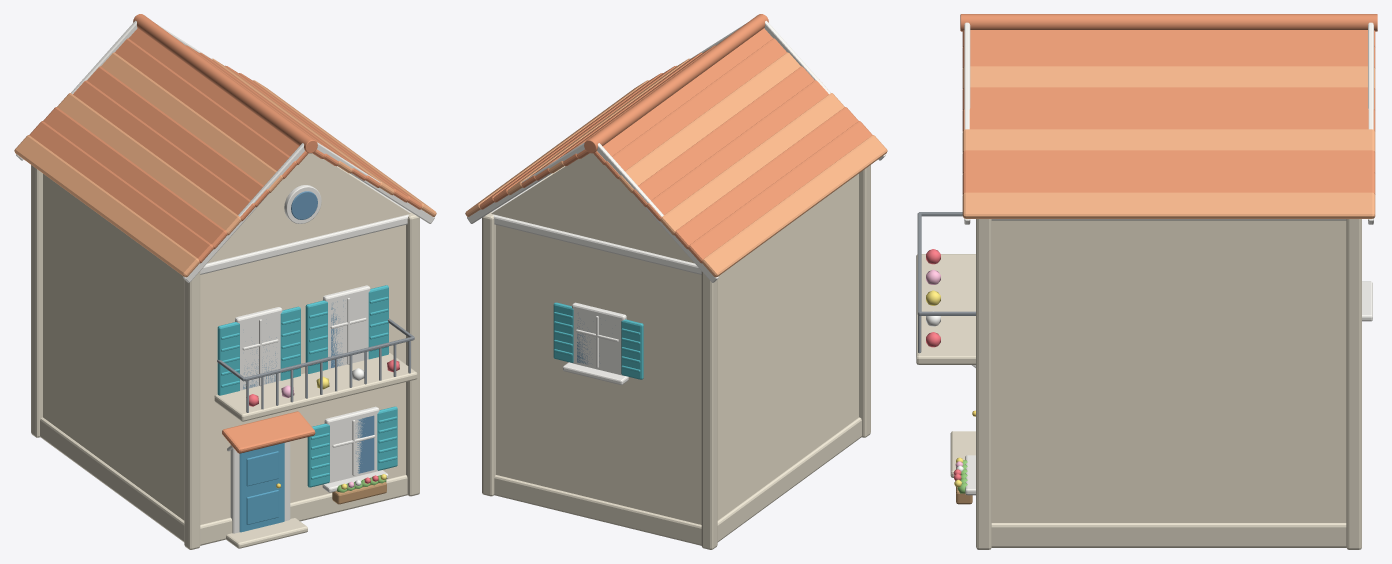
File: house_b.fbx
3 views of the same model, side by side, from view 1: azimuth 30°, elevation 25°; view 2: azimuth 150°, elevation 25°; view 3: azimuth 270°, elevation 25° (orthographic). The views are drawn at different scales.
Parts seen in each view (by area): view 1: Visual; view 2: Visual; view 3: Visual.
Part boxes in pixels (box(x1,y1,x2,y2)): Visual: box(14, 14, 436, 549); Visual: box(465, 14, 887, 549); Visual: box(916, 14, 1377, 549).
Size of what is drawn, in the model's own units: 719 by 1056 by 940.
